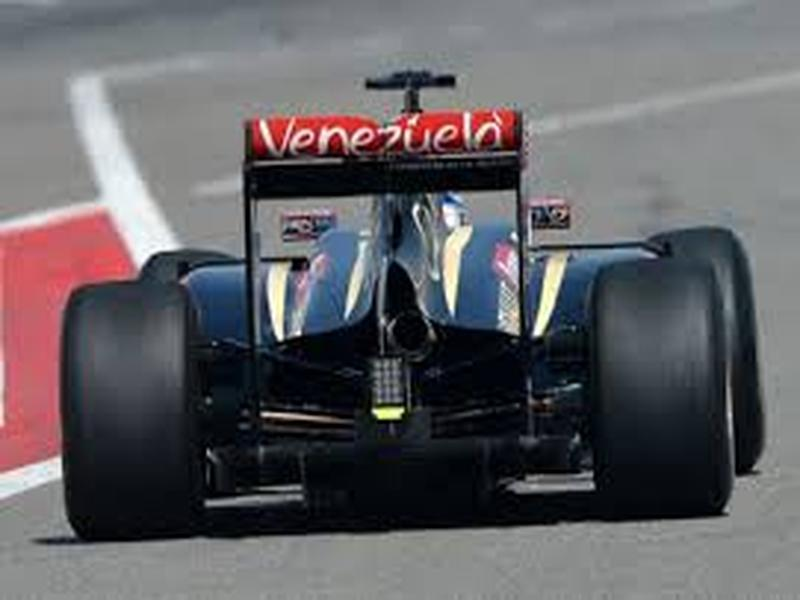racecar: (60, 64, 773, 532)
